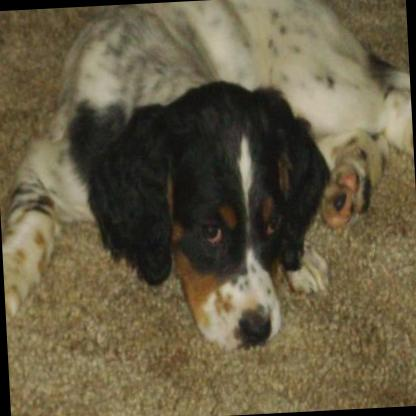English_setter: (0, 0, 416, 361)
